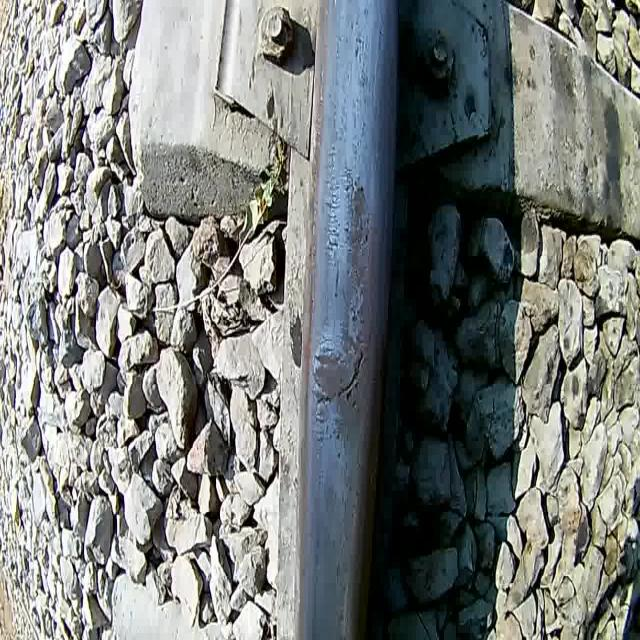Squats: (339, 166, 372, 292), (313, 348, 353, 404)
